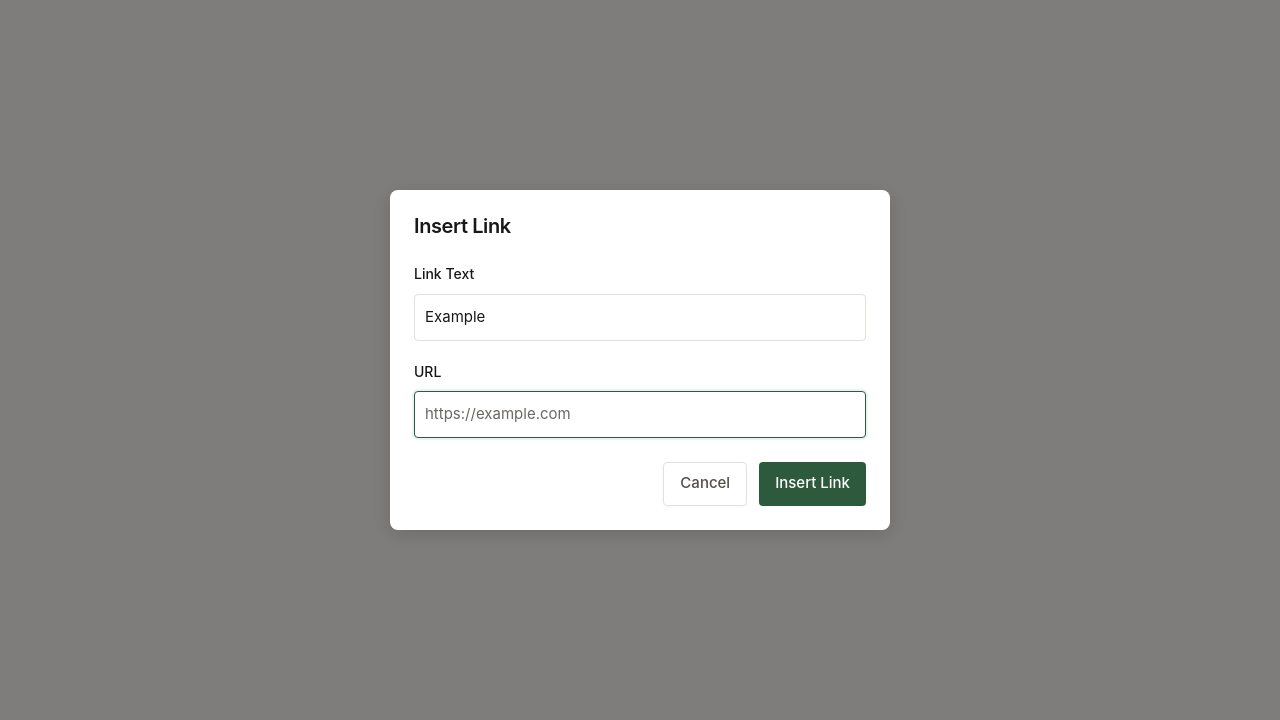
LinkDialog.vue › validates URL format
This screenshot has width=1280, height=720.
In the field with test id "link-url": (640, 414) [414,391,866,438], type "invalid-url"
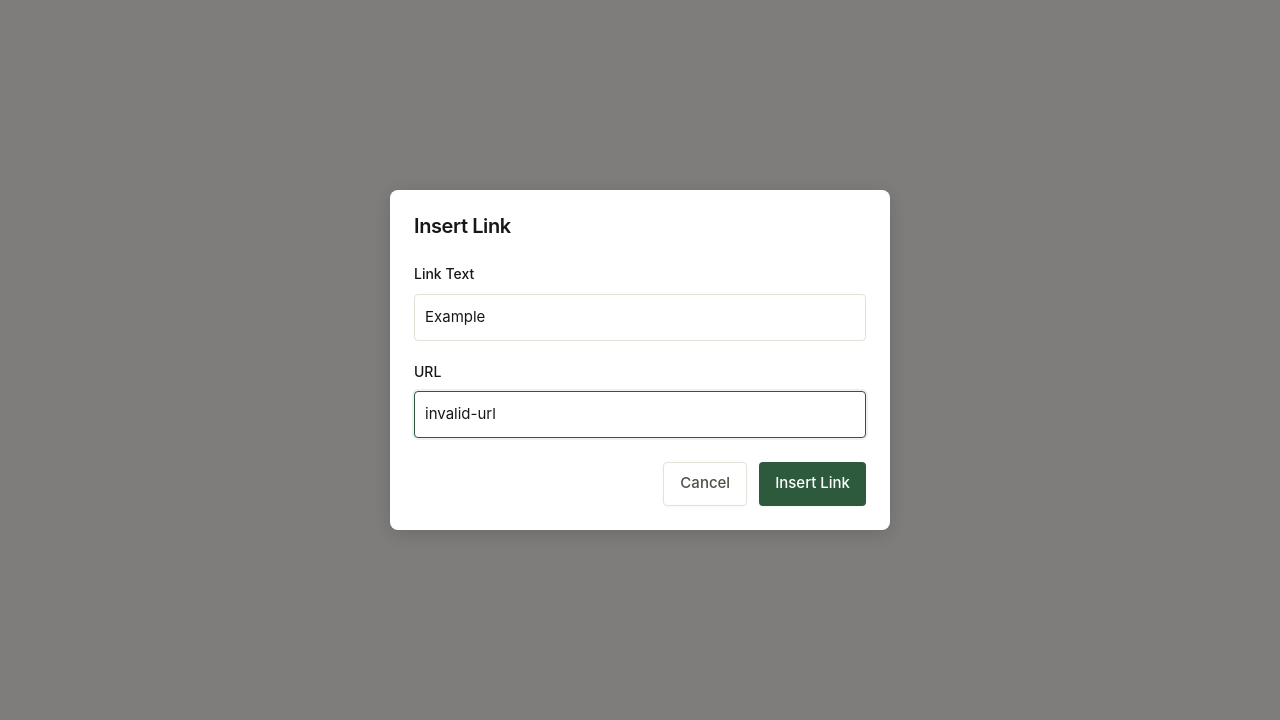
Click the button with test id "confirm-button": (813, 484) [759,462,866,506]
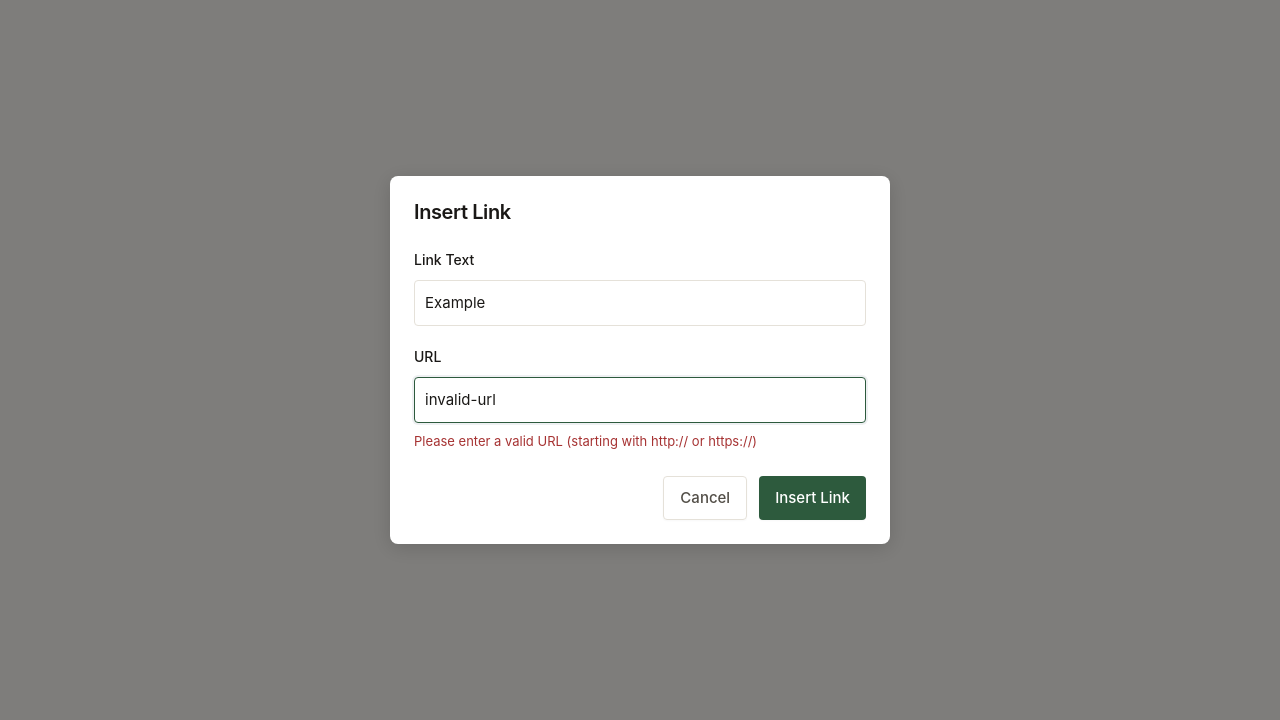
Check: the text "Please enter a valid URL (starting with http:// or https://)" is shown, box [414,433,757,449]
